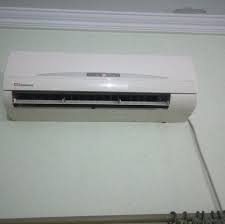ac: (3, 49, 197, 132)
